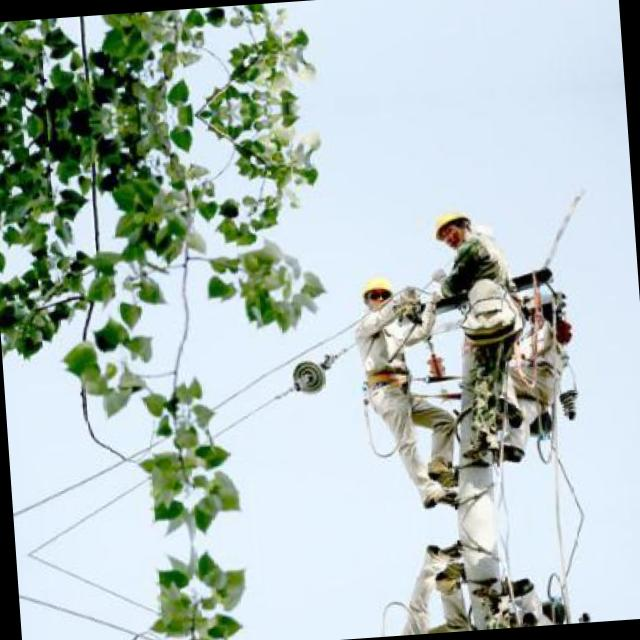helmet: (428, 203, 474, 250), (360, 270, 396, 312)
